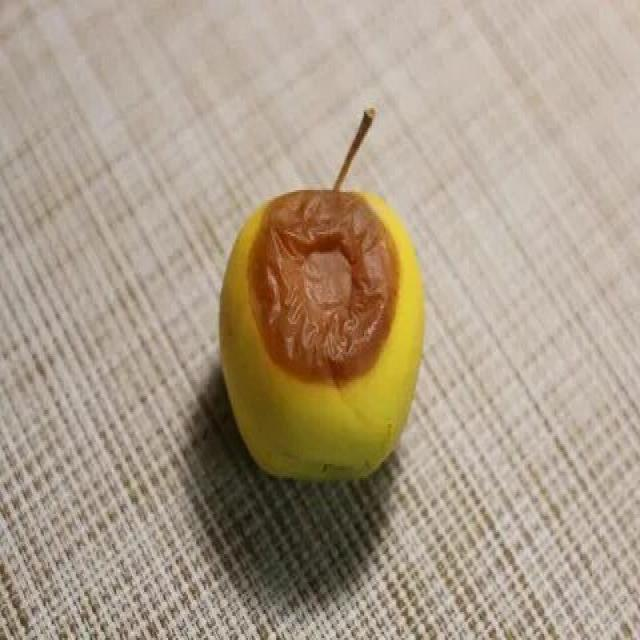Rotten: (225, 193, 438, 475)
